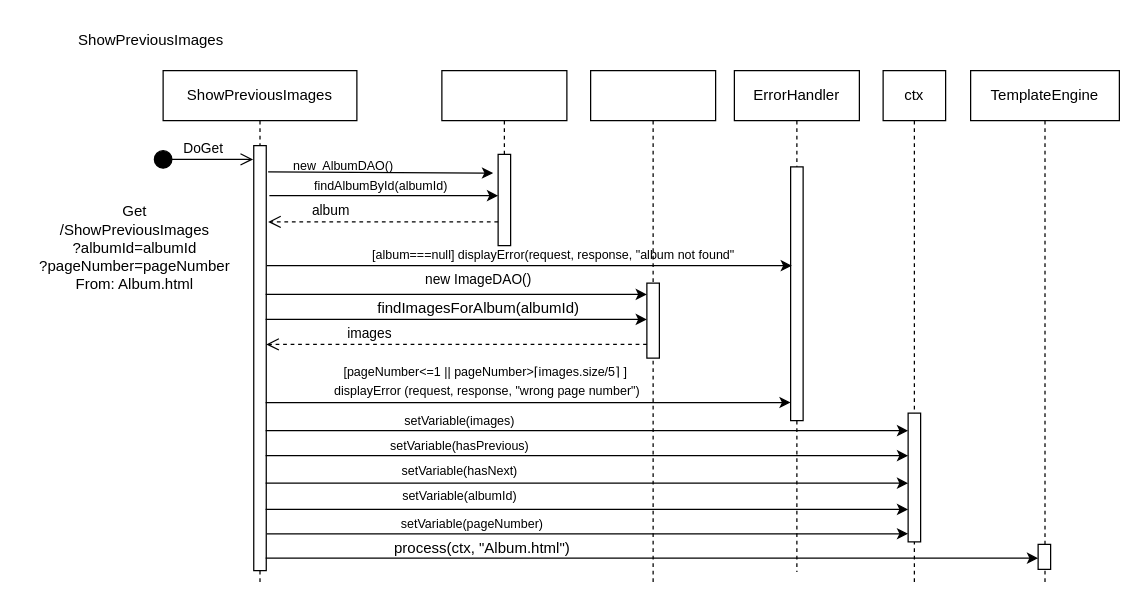
Image size: 1141x606. Some labels were removed from this diagram. The shapes that lost their labels are listed below. From the top down, each one's box as (x1, y1, x2, y2) in pixels, then its label:
(441, 69, 567, 234): AlbumDAO
(589, 69, 716, 584): ImageDAO
